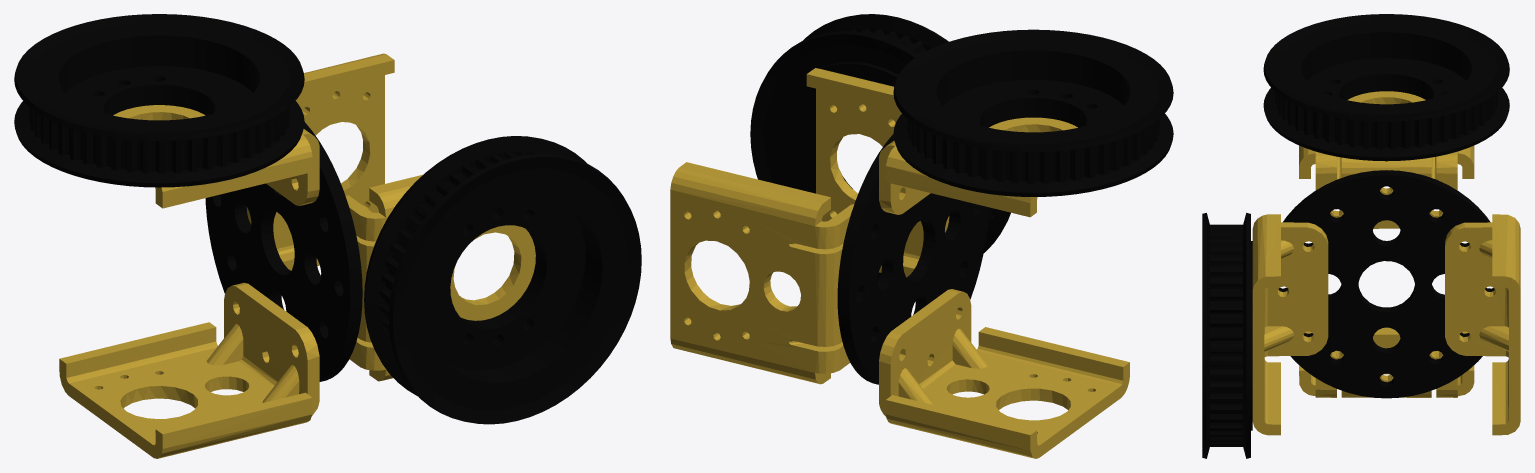
Rendered from joint_junction_link.dae.
3 views of the same model, side by side, from view 1: azimuth 30°, elevation 25°; view 2: azimuth 150°, elevation 25°; view 3: azimuth 270°, elevation 25° (orthographic). The views are drawn at different scales.
Parts seen in each view (by area): view 1: joint_junction_link_black, joint_junction_link_gold; view 2: joint_junction_link_black, joint_junction_link_gold; view 3: joint_junction_link_black, joint_junction_link_gold.
Part boxes in pixels (left/top/right/bottom): joint_junction_link_black: left=14, top=14, right=641, bottom=424; joint_junction_link_gold: left=59, top=53, right=535, bottom=458; joint_junction_link_black: left=750, top=14, right=1173, bottom=384; joint_junction_link_gold: left=670, top=68, right=1129, bottom=458; joint_junction_link_black: left=1202, top=14, right=1509, bottom=458; joint_junction_link_gold: left=1252, top=91, right=1520, bottom=435.
Bounding box in the file's own units: 0.1035 × 0.0672 × 0.0672.
